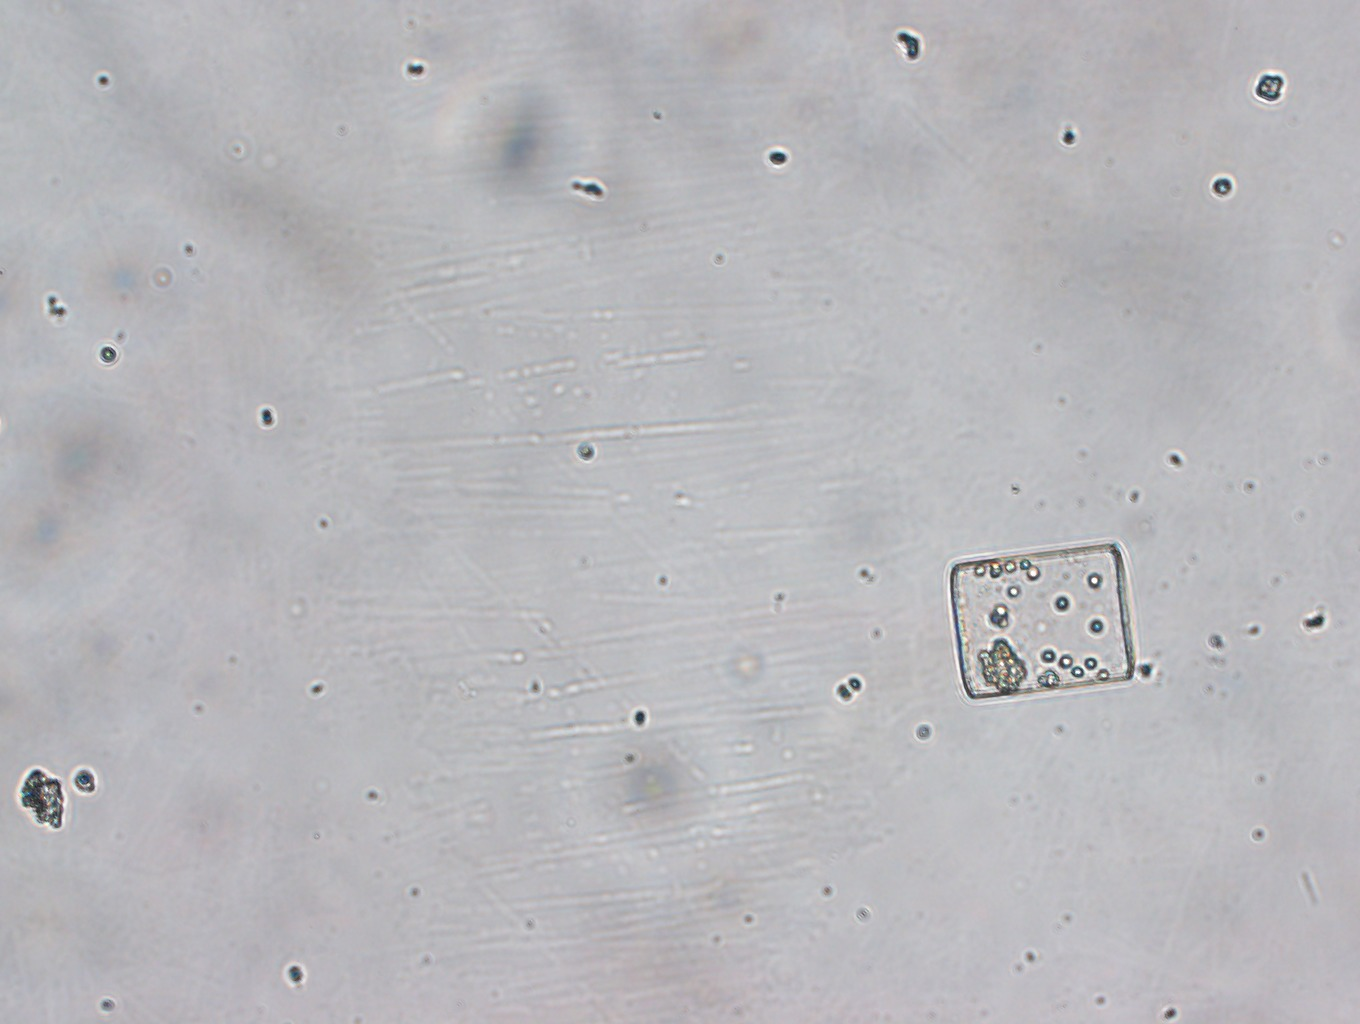guinardia flaccida: (947, 541, 1137, 701)
